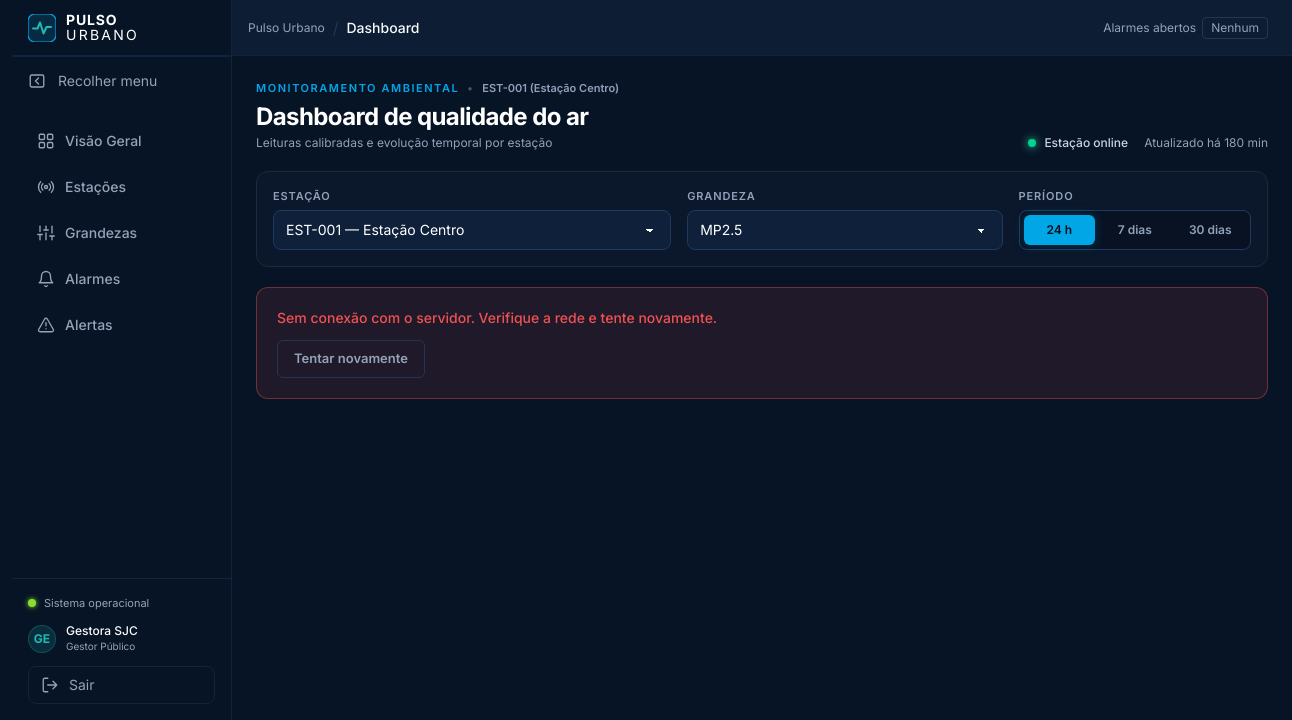
Test: DashboardEstacao integração (US-35) › deve tratar o erro "sem conexão" e permitir tentar novamente com sucesso
The width and height of the screenshot is (1292, 720).
Expected: the message shows "Sem conexão com o servidor. Verifique a rede e tente novamente.", [277,309,717,326]
Click the button "Tentar novamente" at (351, 359), box [277,340,425,378]
(page scrolled)
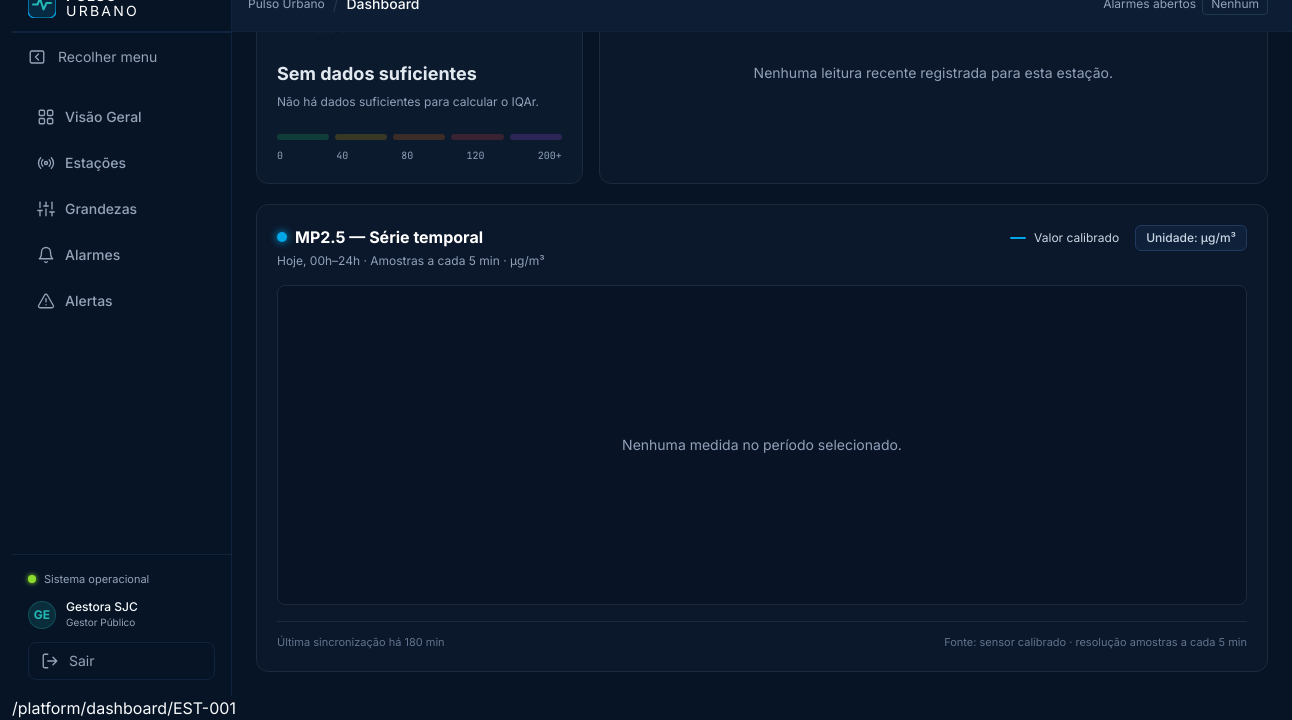
Expected: the text "Nenhuma medida no período selecionado." is shown, [277,285,1247,605]
